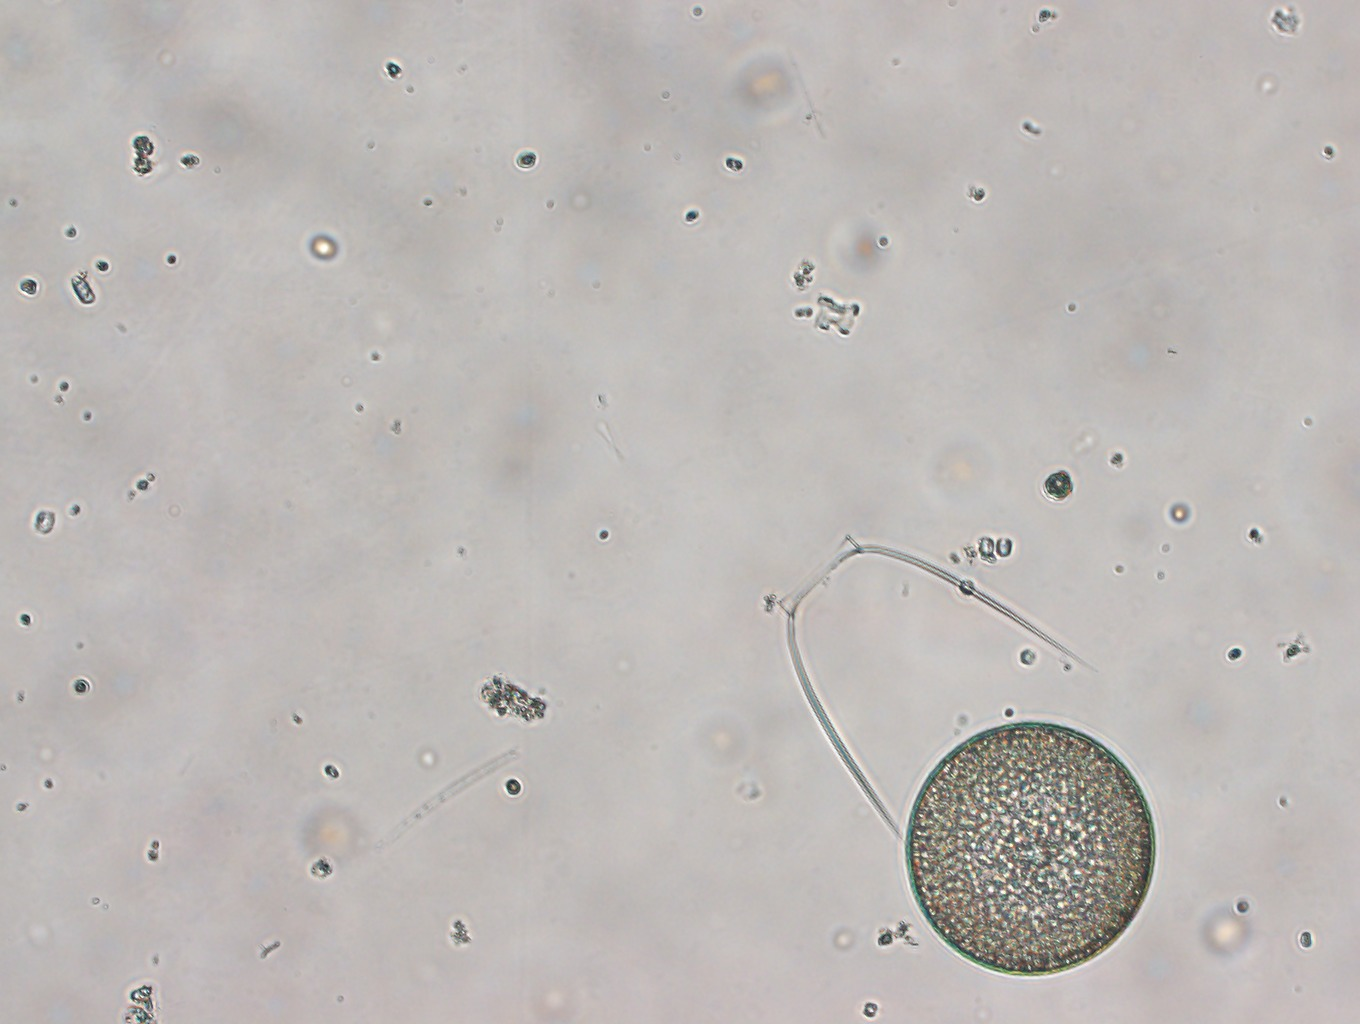chaetoceros: (751, 510, 1102, 847)
coscinodiscus: (894, 709, 1162, 983)
